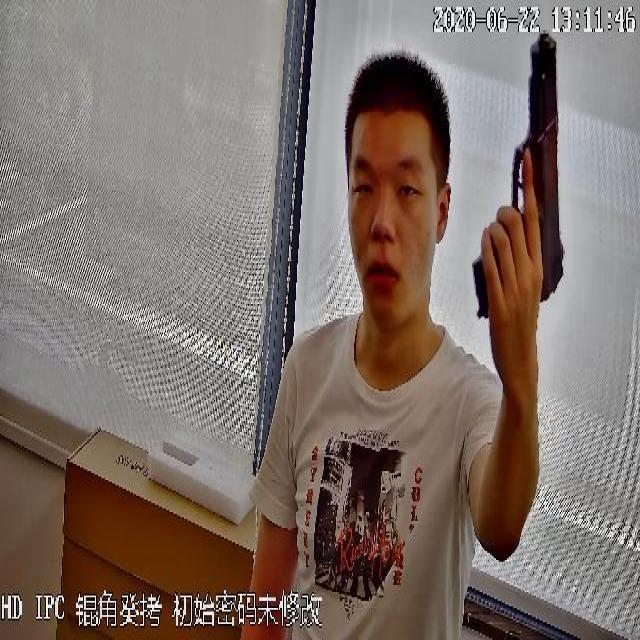pistol: (472, 29, 564, 320)
